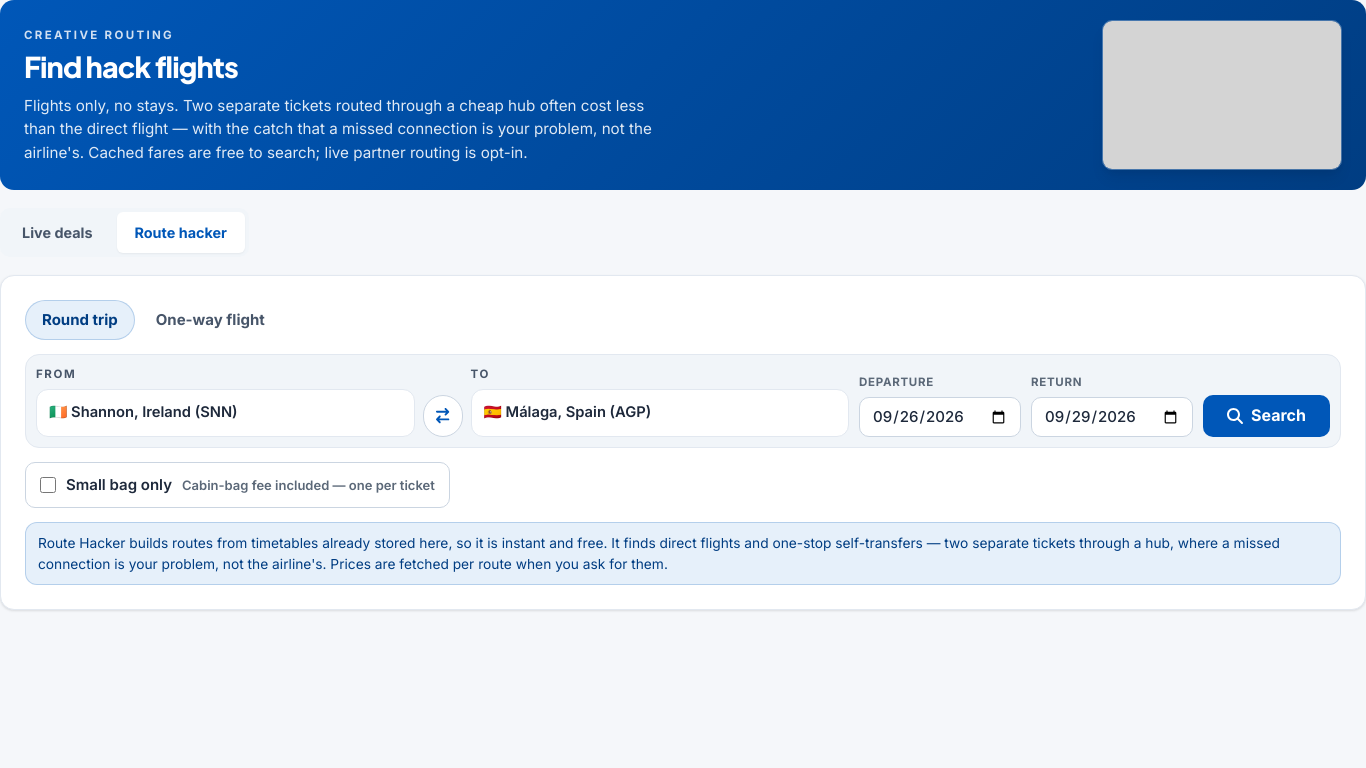
Hack Flights search controls › filters the routes down to the hubs left ticked
This screenshot has width=1366, height=768.
Click the radio button labelled "One-way flight".
click(210, 320)  # box [156,310,265,329]
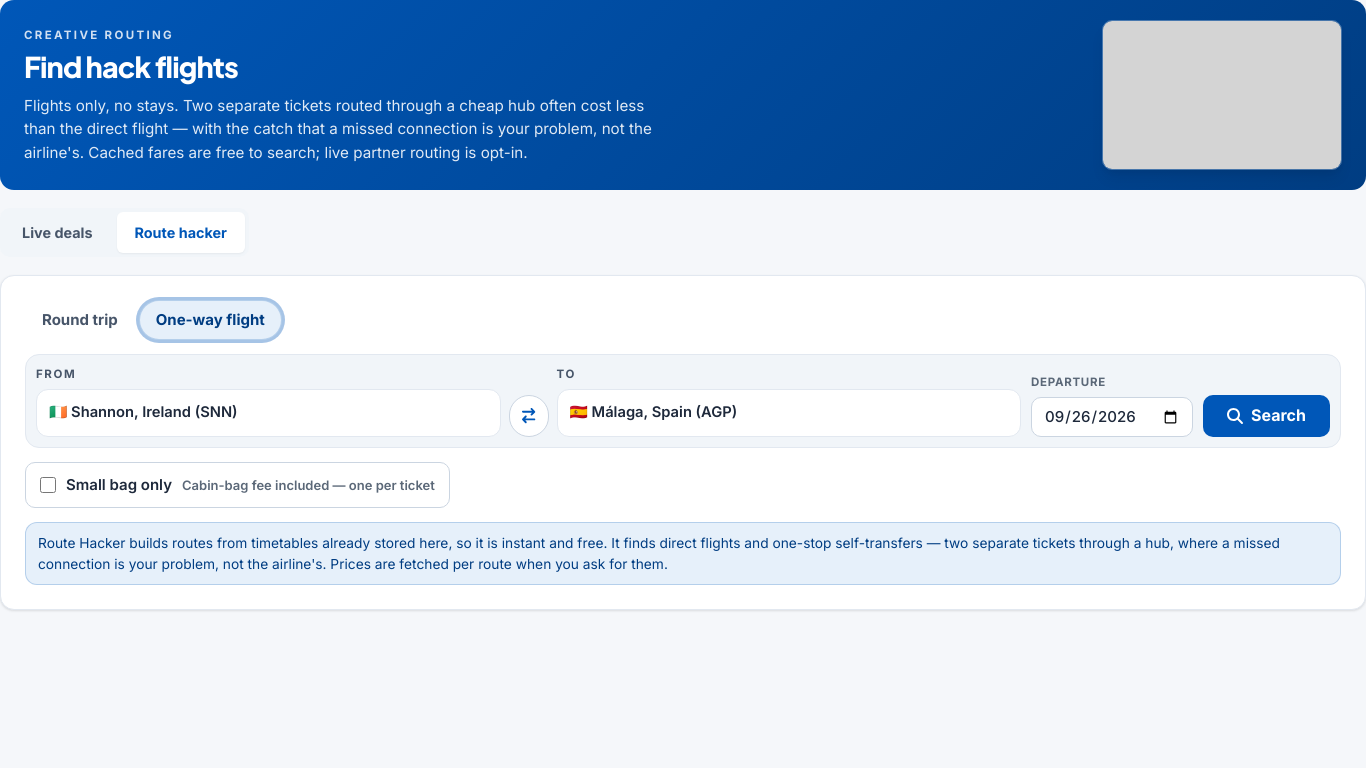
Click the button with aria-label "assemble hacker routes".
click(1266, 416)  # box [1203,395,1330,437]
(page scrolled)
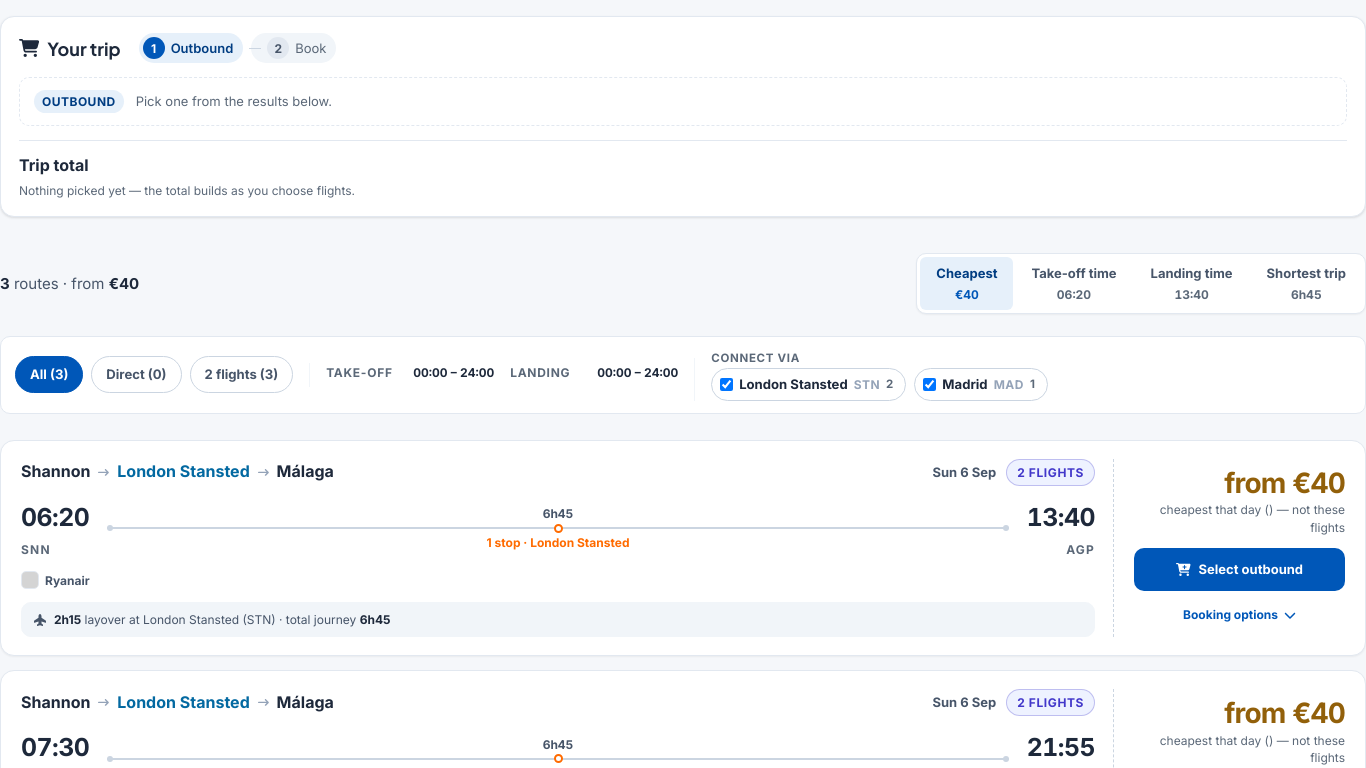
Result: the element named "Filter routes by stops" is shown at [15,356,293,394]
Result: the checkbox labelled "London Stansted STN 2" is checked
Result: the checkbox labelled "Madrid MAD 1" is checked at [923,378,936,391]
Click the checkbox labelled "London Stansted STN 2".
click(727, 384)  # box [720,378,733,391]
(page scrolled)
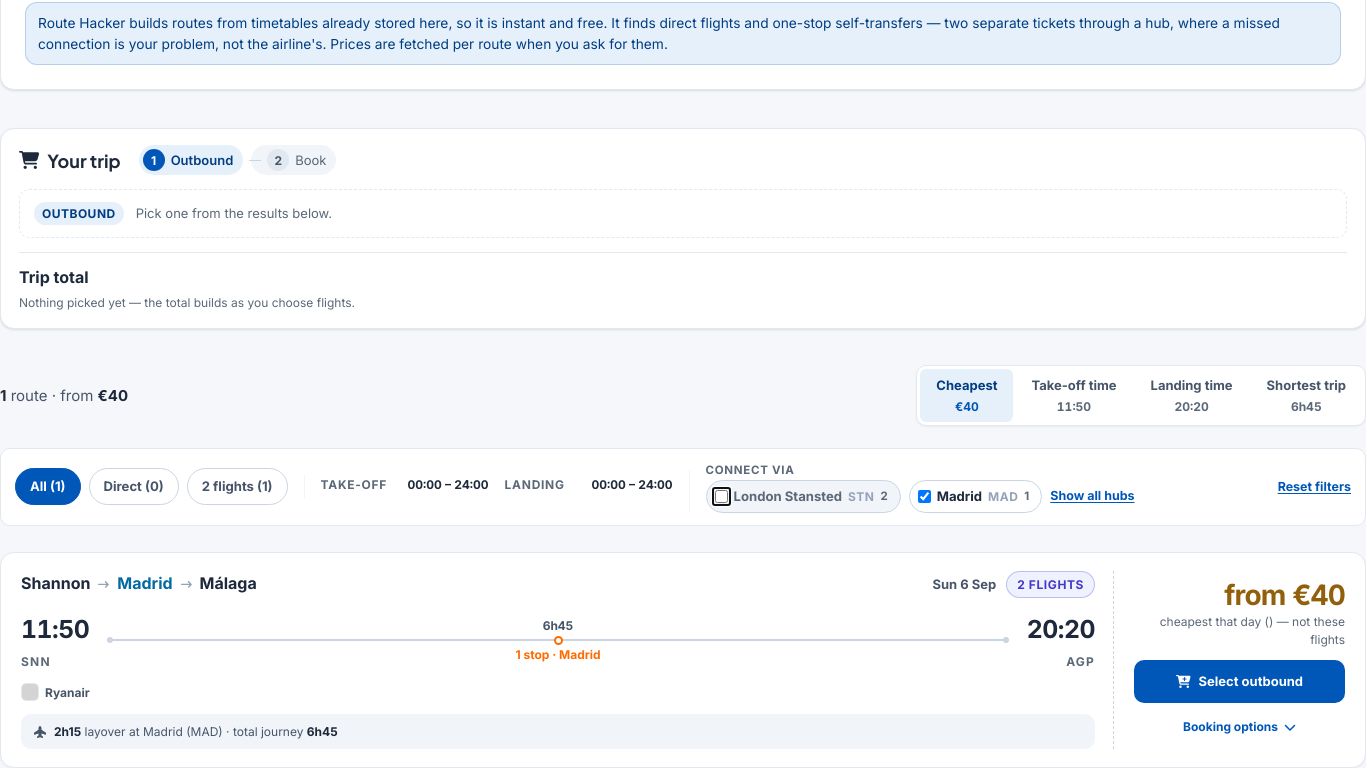
Result: the number of elements with class "hacker-route-card" is 1 at [0,552,1365,767]
Result: the button "Show all hubs" is shown
Click the button "Show all hubs".
click(1092, 496)  # box [1050,486,1135,506]
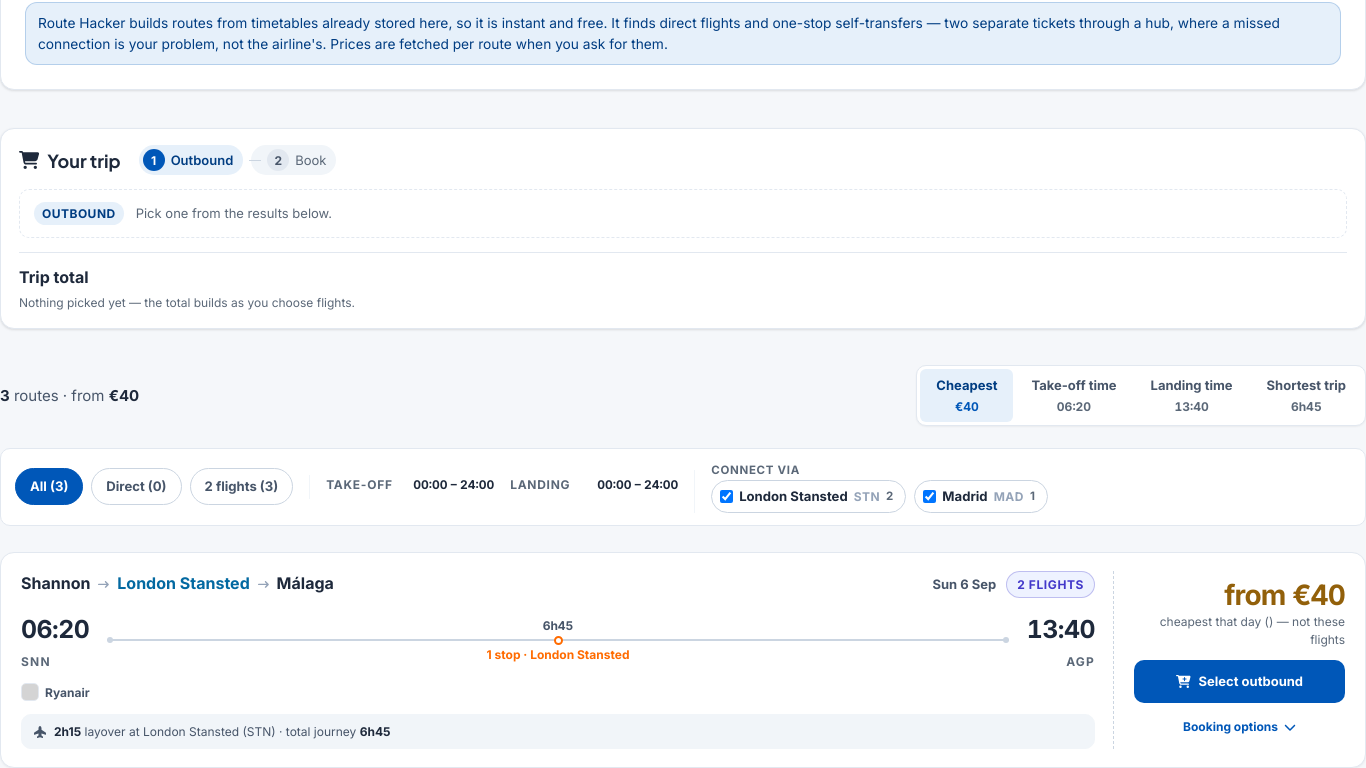
Result: the number of elements with class "hacker-route-card" is 3
